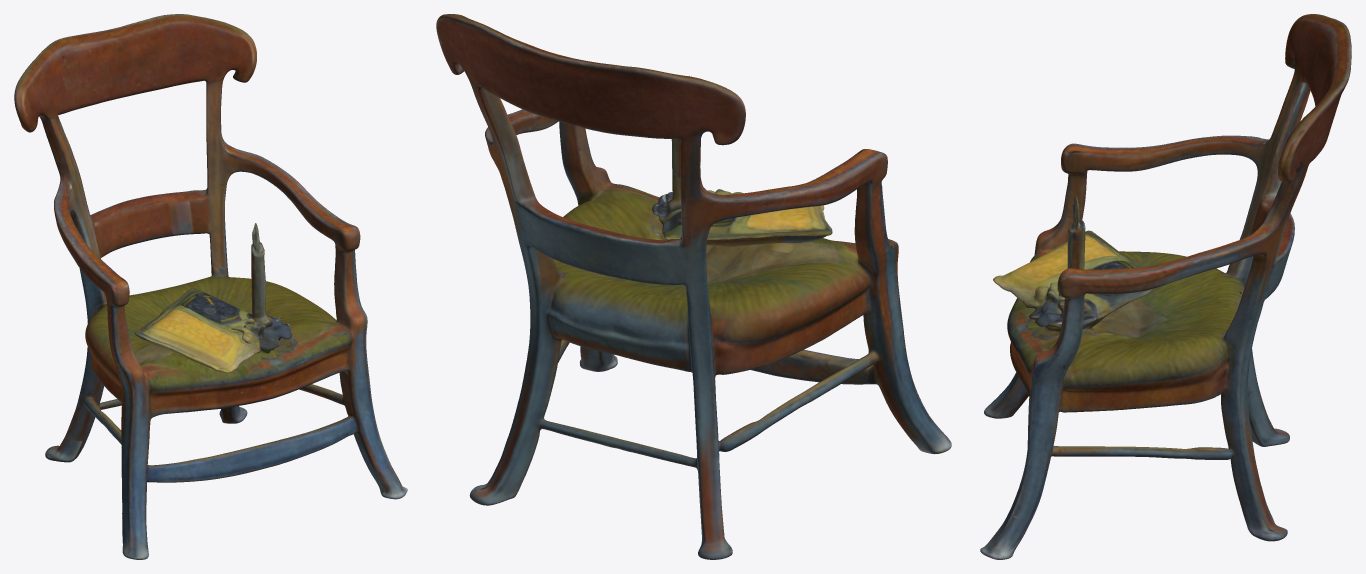
Rendered from chairvangogh.glb.
3 renders of one model, left to right at view 1: azimuth 30°, elevation 25°; view 2: azimuth 150°, elevation 25°; view 3: azimuth 270°, elevation 25°, orthographic. The views are drawn at different scales.
Parts seen in each view (by area): view 1: Mesh1_Mesh1.016_Material.001_0, Mesh1_Mesh1.016_Material.001_0.001; view 2: Mesh1_Mesh1.016_Material.001_0.001, Mesh1_Mesh1.016_Material.001_0; view 3: Mesh1_Mesh1.016_Material.001_0, Mesh1_Mesh1.016_Material.001_0.001.
Boxes of the visible parts, x1,y1,x2,y2 form: Mesh1_Mesh1.016_Material.001_0: [54, 155, 407, 559]; Mesh1_Mesh1.016_Material.001_0.001: [14, 14, 346, 462]; Mesh1_Mesh1.016_Material.001_0.001: [436, 14, 904, 559]; Mesh1_Mesh1.016_Material.001_0: [485, 76, 951, 454]; Mesh1_Mesh1.016_Material.001_0: [980, 135, 1266, 559]; Mesh1_Mesh1.016_Material.001_0.001: [1043, 14, 1351, 541].
Bounding box in the file's own units: 1.51 × 2 × 1.55.
1 material, 1 textured.
